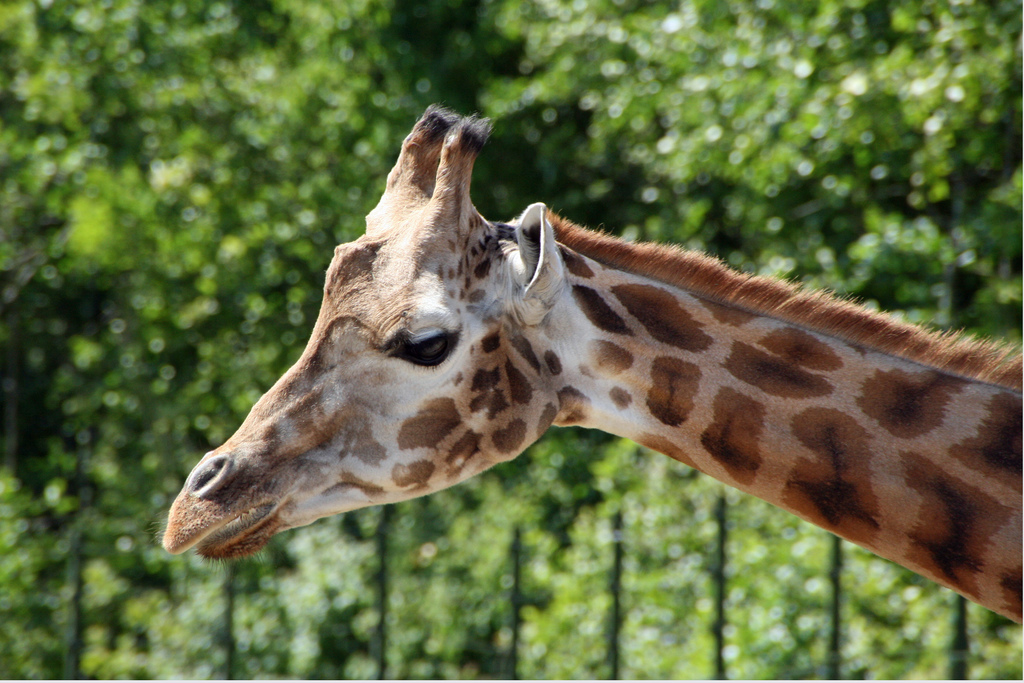giraffe: (122, 120, 964, 637)
